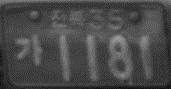1: (137, 33, 154, 81), (57, 34, 73, 82), (85, 34, 99, 82)
3: (87, 7, 105, 31)
5: (106, 7, 123, 32)
8: (107, 34, 133, 80)
가: (13, 34, 45, 67)
전북_O: (50, 7, 86, 29)
